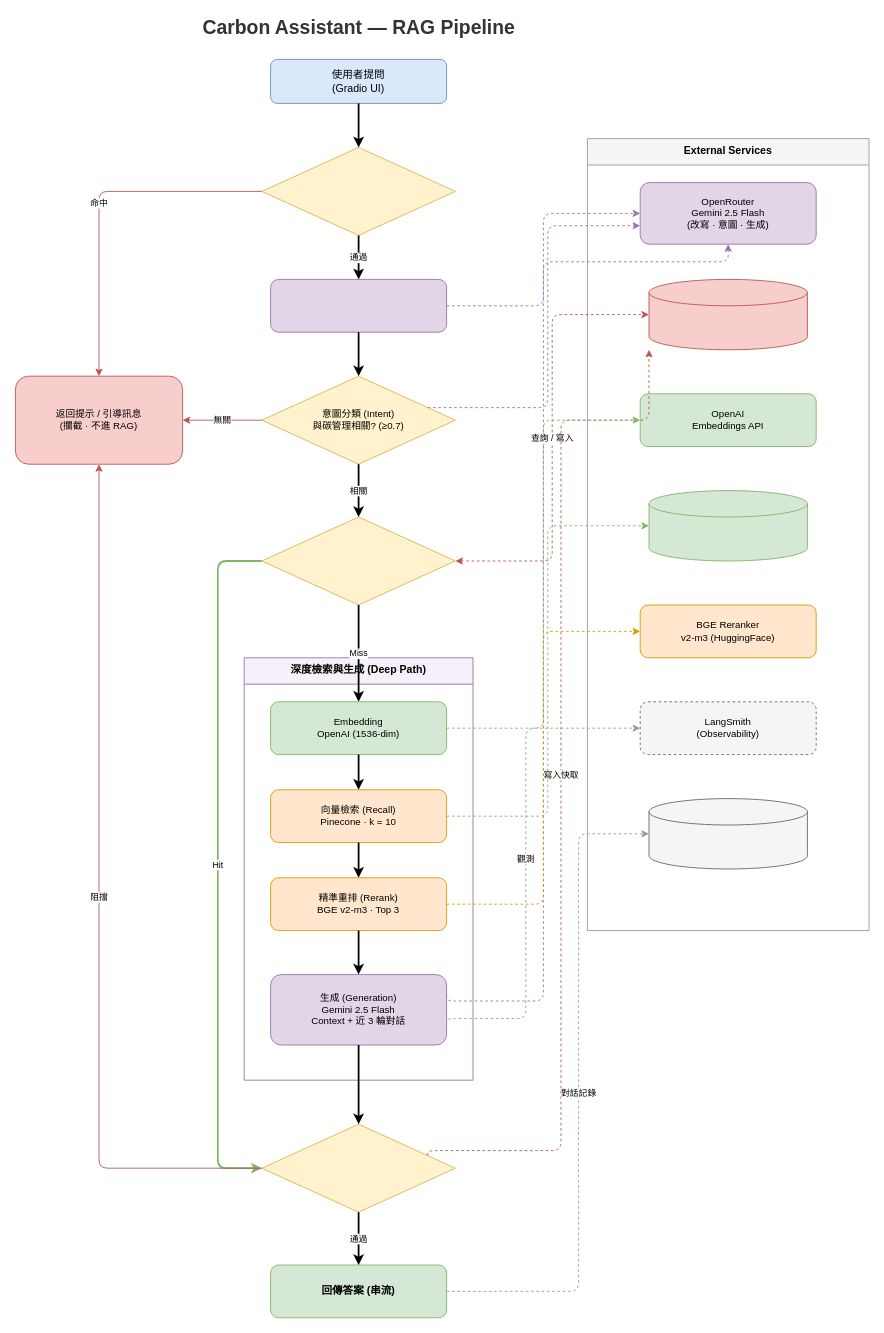
Some shapes in this 884 by 1333 pixel diagram are drawn without their labels. The centre of each missing label's shape, as x and y in pixels:
"MongoDB 對話記錄" goes at (x=727, y=833).
"Pinecone Vector DB" goes at (x=727, y=525).
"Redis Semantic Cache" goes at (x=727, y=314).
"回覆防護 (Guardrail) PII / 注入掃描" goes at (x=358, y=1167).
"查詢改寫 (Query Rewriting) 追問 → 獨立問題" goes at (x=358, y=305).
"語義快取 (Semantic Cache) 相似度 > 0.95 命中?" goes at (x=358, y=560).
"輸入防護 Prompt Injection 偵測" goes at (x=358, y=191).
